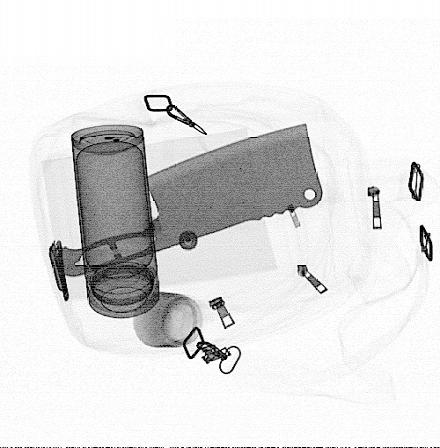Knife: (54, 124, 324, 277)
